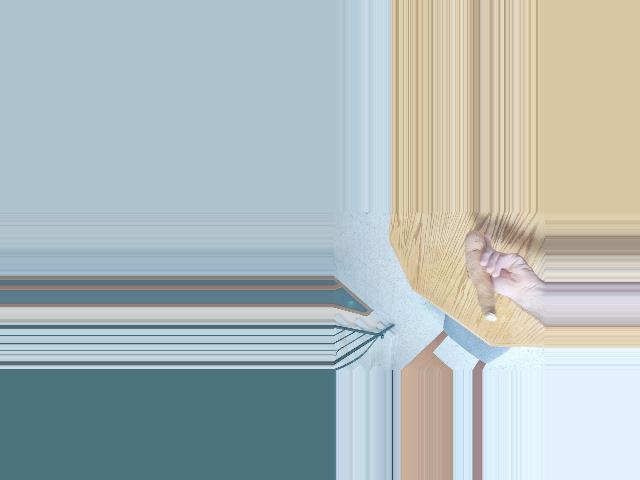sweet_potato: (460, 234, 500, 317)
